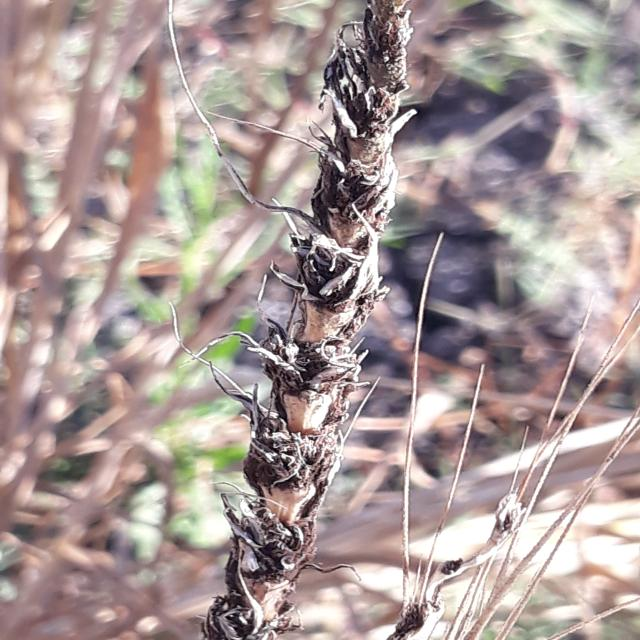loose_charred: (163, 0, 461, 640), (383, 482, 527, 640)
